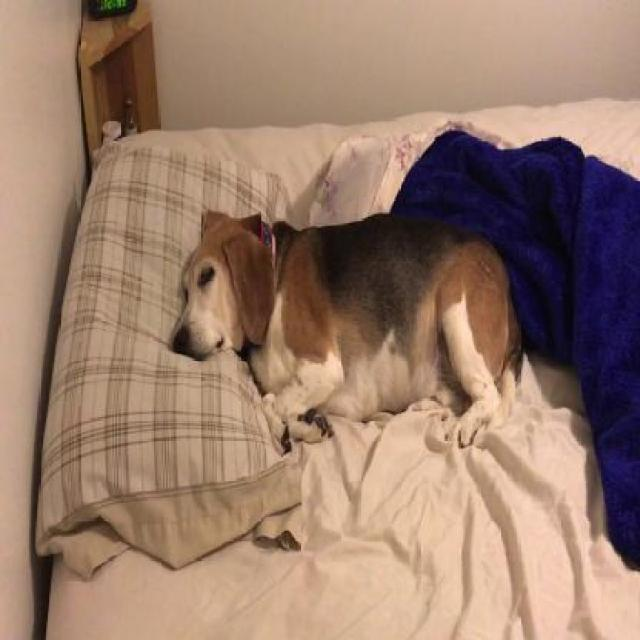Dog: (168, 215, 530, 463)
